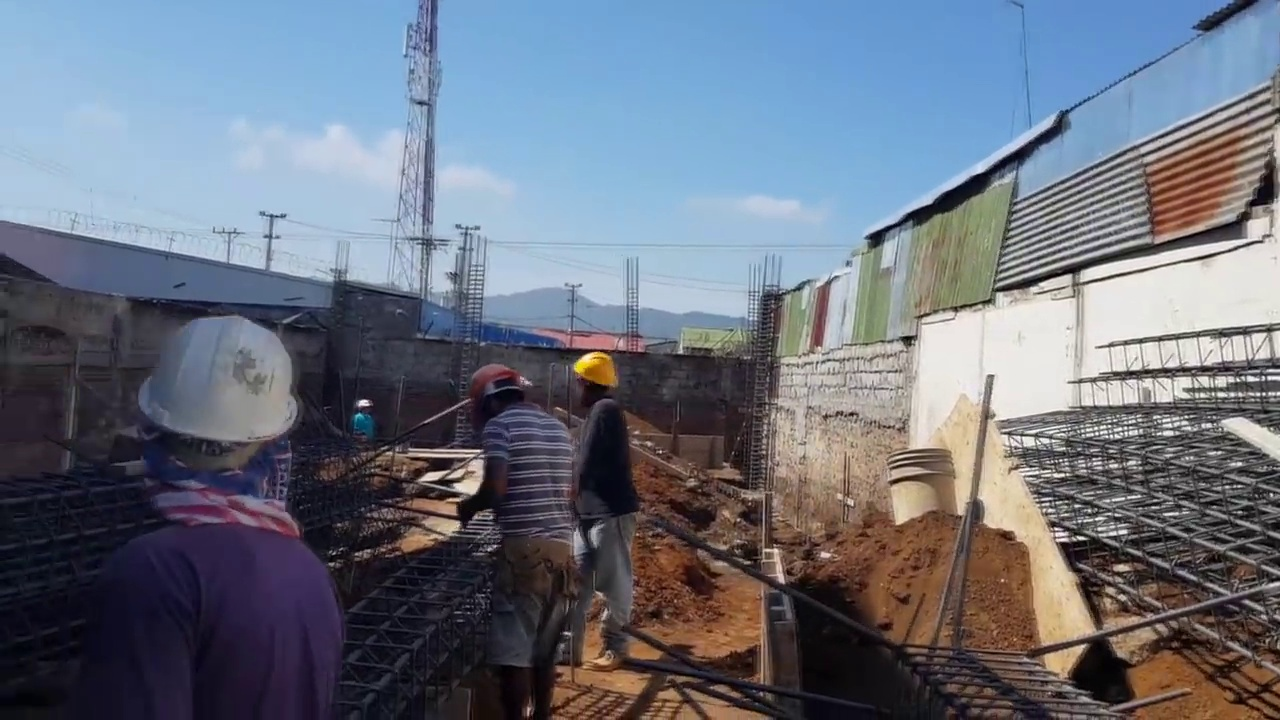helmet: (134, 321, 290, 453), (465, 360, 522, 409), (572, 350, 619, 389), (358, 399, 370, 408)
helmet-on: (120, 316, 292, 515), (466, 361, 524, 423), (570, 347, 620, 402), (356, 400, 373, 416)
person: (44, 311, 351, 717), (451, 357, 562, 712), (566, 347, 641, 657), (347, 398, 373, 440)
